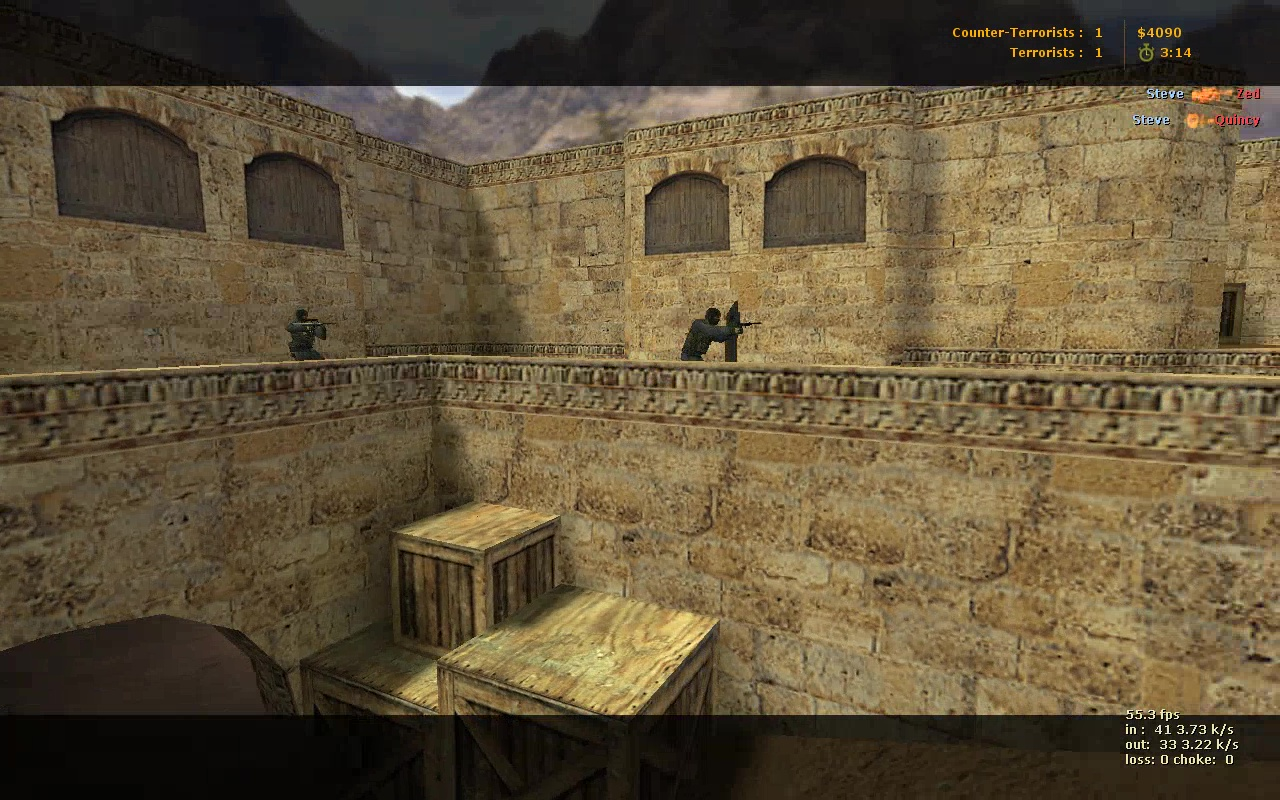ct: (684, 303, 745, 363), (285, 309, 330, 360)
